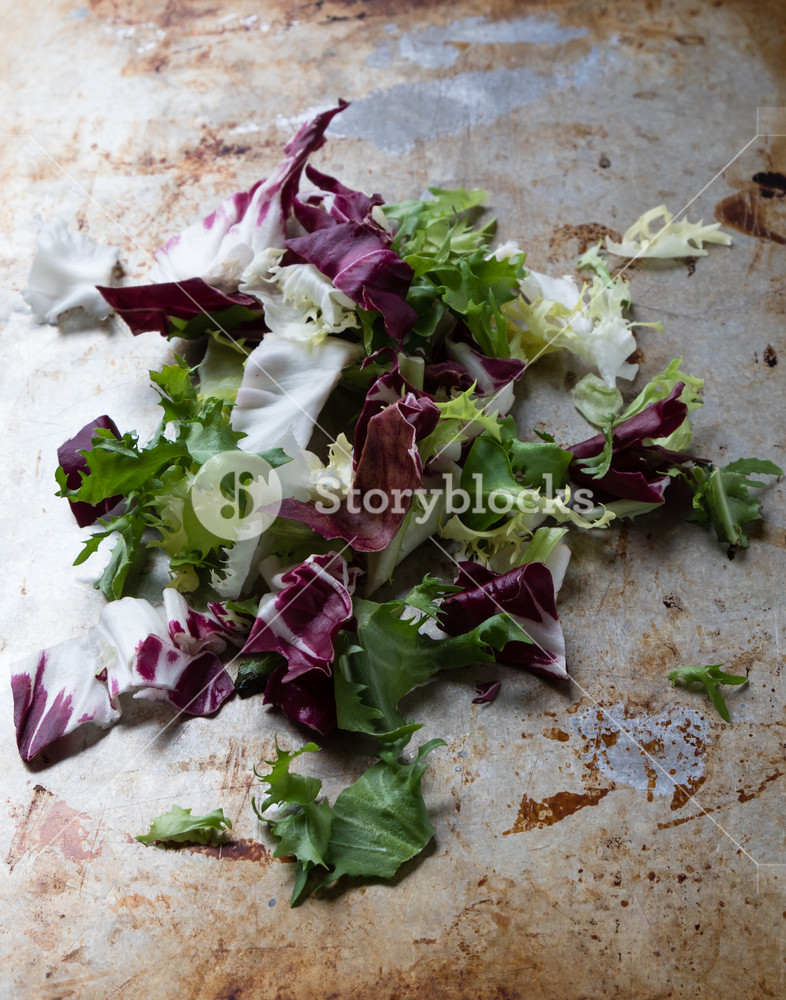chopped lettuce: (161, 258, 469, 702)
